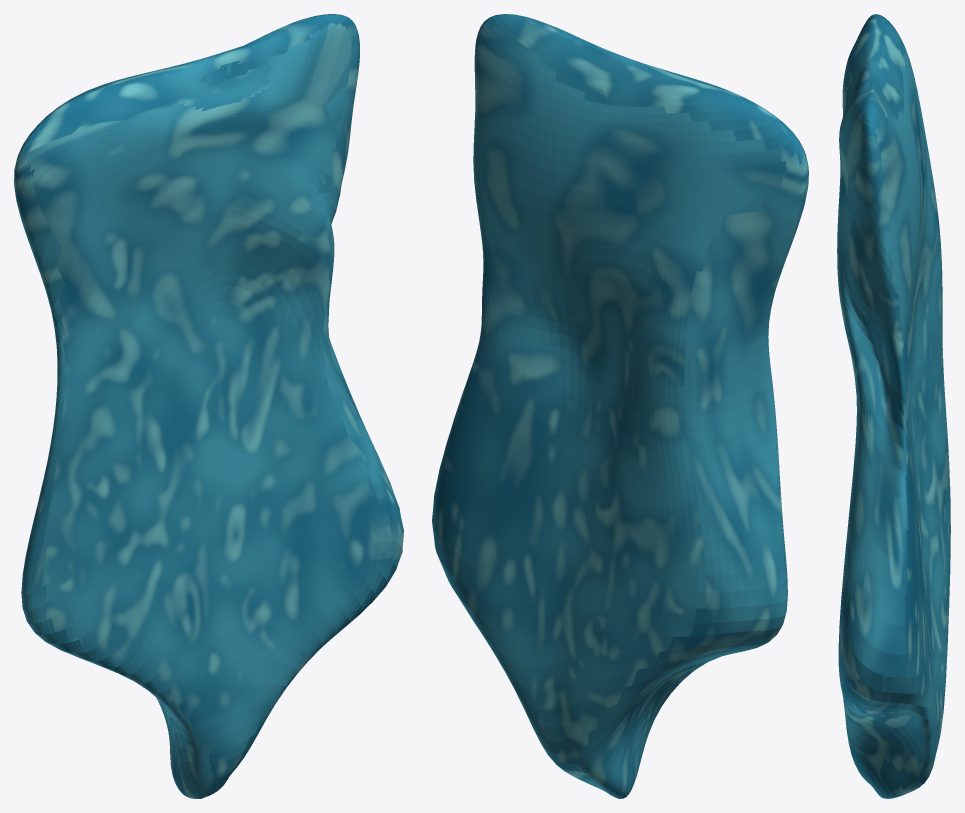
Rendered from active_particles.glb.
3 views of the same model, side by side, from view 1: azimuth 30°, elevation 25°; view 2: azimuth 150°, elevation 25°; view 3: azimuth 270°, elevation 25° (orthographic). The views are drawn at different scales.
Parts seen in each view (by area): view 1: Sphere; view 2: Sphere; view 3: Sphere.
Boxes of the visible parts, left/top/right/bottom form: Sphere: left=14, top=14, right=403, bottom=798; Sphere: left=432, top=14, right=808, bottom=798; Sphere: left=837, top=14, right=950, bottom=798.
Size of the model in its own units: 0.3477 by 0.6637 by 0.092.
Materials: 1 (1 with a texture image).
